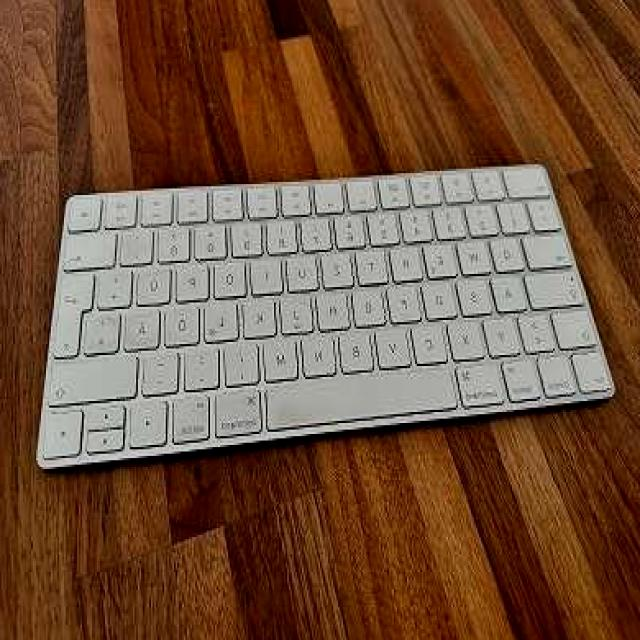0: (196, 219, 230, 254)
1: (501, 198, 534, 228)
2: (469, 198, 502, 233)
3: (437, 202, 470, 235)
4: (404, 204, 437, 237)
5: (369, 209, 402, 244)
6: (337, 209, 370, 244)
7: (304, 213, 335, 246)
8: (269, 215, 300, 250)
9: (235, 217, 266, 252)
a: (496, 267, 530, 307)
accent: (124, 223, 158, 261)
ae: (128, 300, 164, 344)
alt-left: (504, 353, 544, 401)
altgr-right: (176, 388, 216, 436)
b: (342, 322, 378, 368)
c: (415, 316, 451, 360)
caret: (532, 196, 566, 226)
comma: (227, 334, 265, 382)
d: (425, 274, 461, 316)
del: (66, 226, 120, 264)
e: (427, 237, 461, 275)
enter: (56, 265, 98, 353)
f: (393, 278, 427, 318)
g: (357, 281, 391, 323)
h: (320, 283, 354, 325)
hash: (87, 305, 125, 349)
i: (255, 250, 288, 290)
j: (284, 287, 318, 329)
k: (247, 292, 281, 334)
keyboard: (28, 147, 624, 485)
l: (209, 294, 243, 338)
less: (522, 307, 560, 349)
m: (268, 329, 304, 377)
minus: (144, 342, 184, 390)
n: (306, 327, 340, 373)
o: (217, 254, 251, 294)
oe: (170, 298, 204, 340)
p: (178, 256, 212, 296)
plus: (100, 261, 136, 303)
point: (187, 340, 223, 384)
q: (491, 232, 525, 270)
r: (394, 239, 427, 277)
s: (461, 272, 497, 312)
shift-left: (555, 303, 603, 345)
shift-lock: (529, 265, 591, 305)
shift-right: (49, 347, 143, 399)
space: (266, 360, 462, 434)
ss: (161, 219, 194, 257)
strg-left: (540, 349, 581, 393)
t: (360, 241, 394, 281)
tab: (526, 228, 578, 263)
u: (291, 248, 324, 288)
ue: (140, 259, 176, 301)
v: (379, 320, 415, 364)
w: (462, 232, 496, 270)
x: (451, 311, 489, 355)
y: (488, 309, 526, 351)
z: (325, 245, 358, 283)
